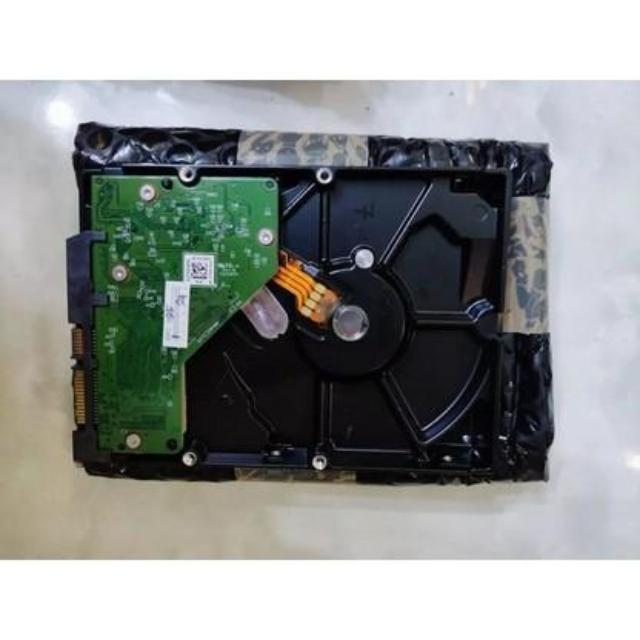DISK: (59, 167, 542, 485)
